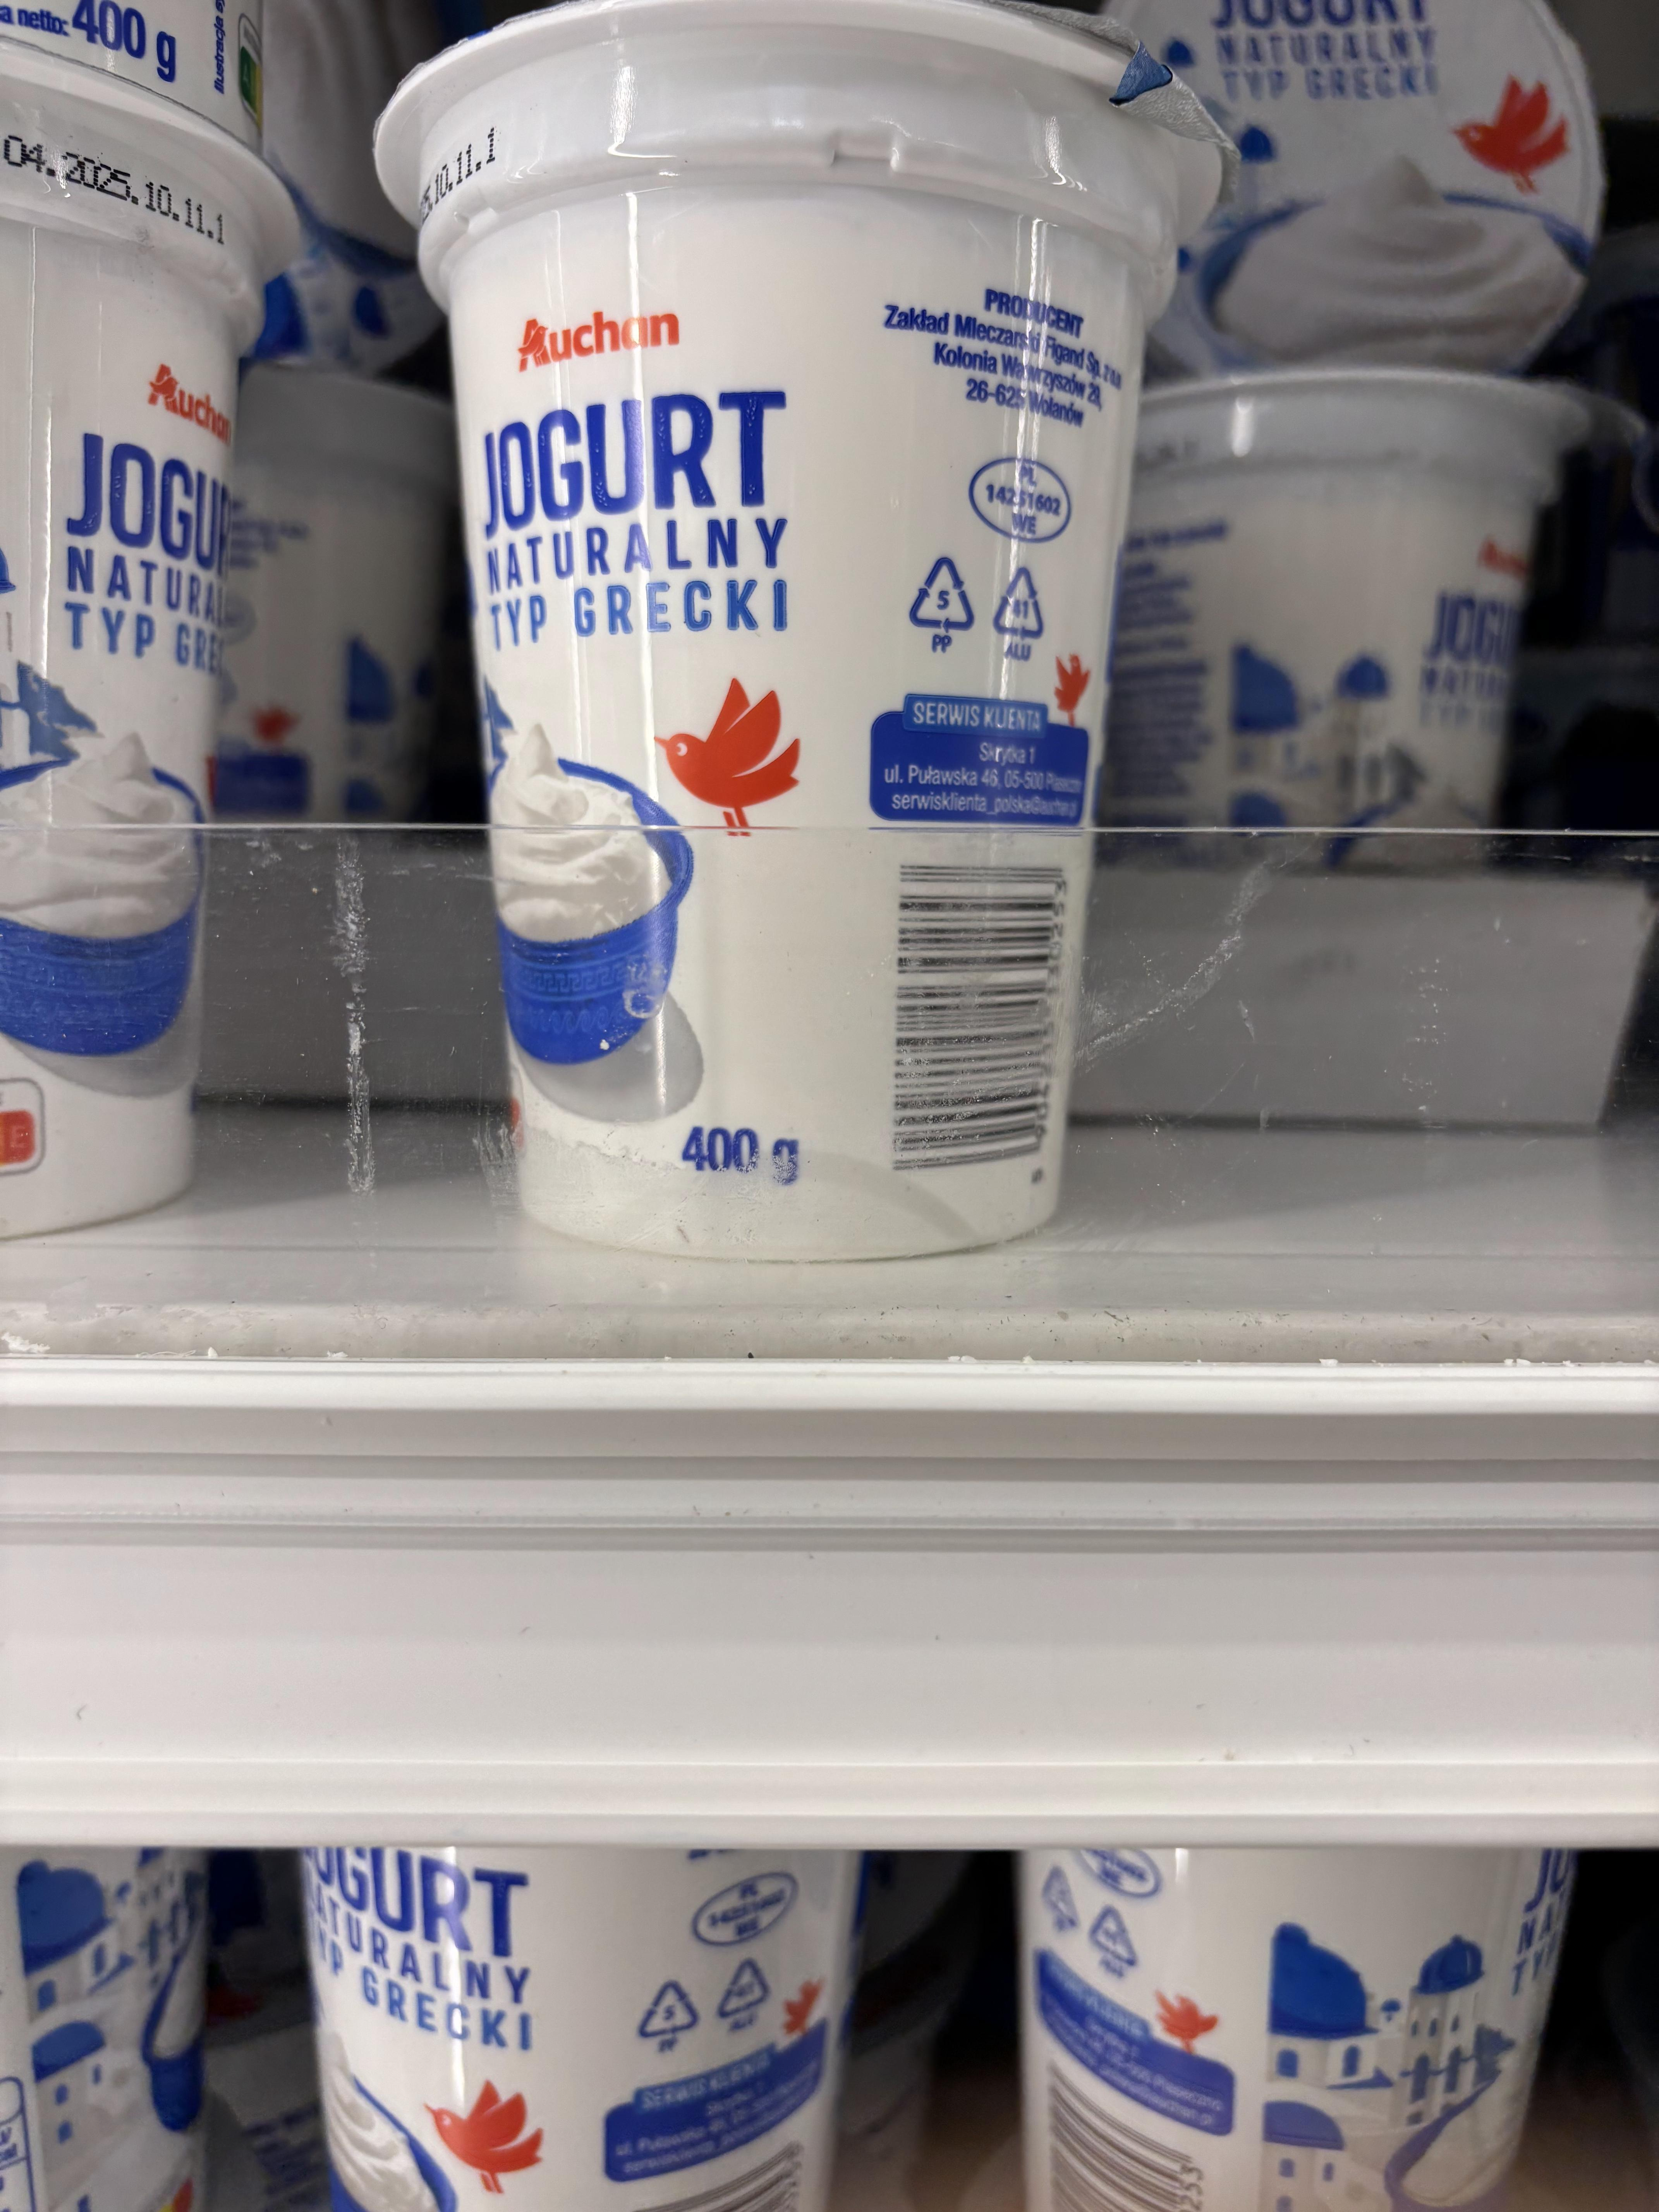Yogurt: (342, 71, 1344, 1313)
